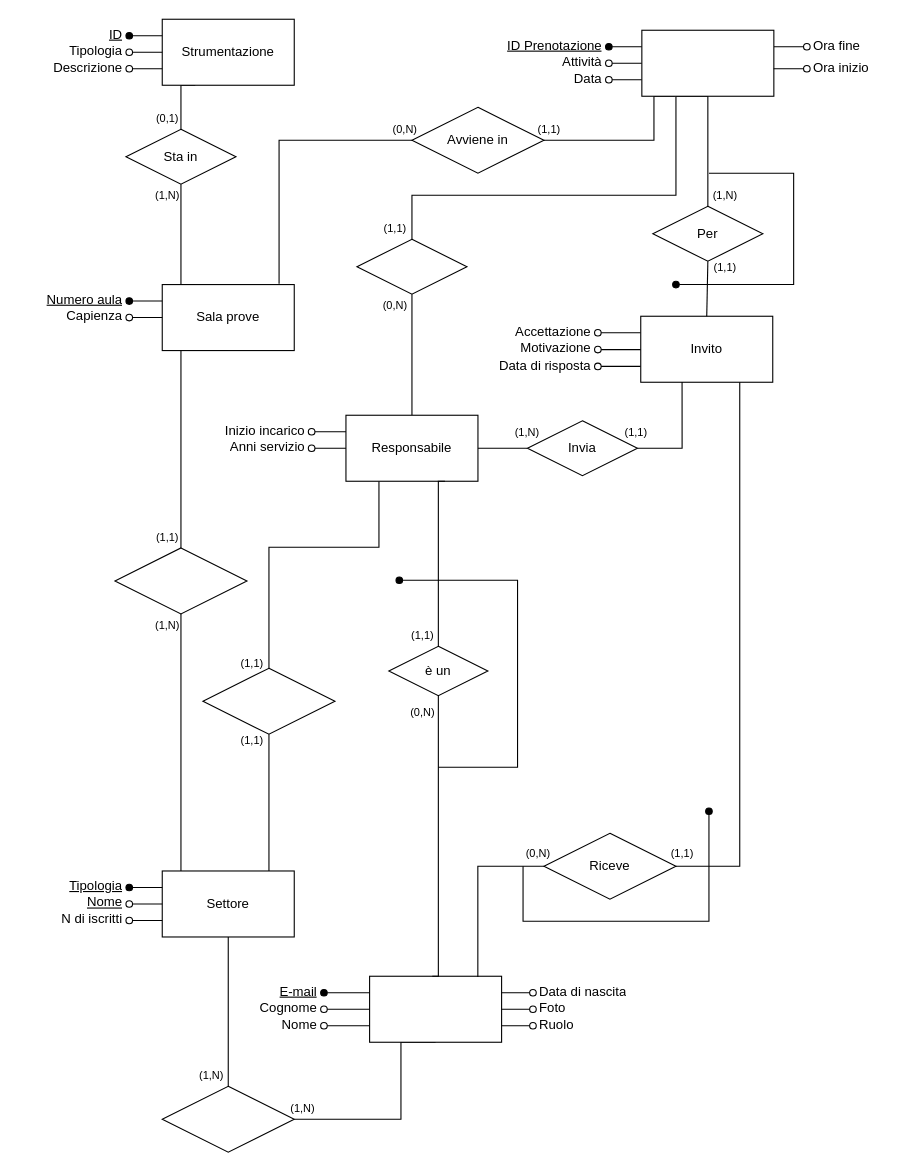
This 902x1172 diagram has some shape labels left out. The centre of each missing label's shape, as x and y in pixels:
"Crea" goes at (411,266).
"Fa riferimento" goes at (180,580).
"Gestisce" goes at (268,700).
"Iscritto" goes at (435,1008).
"Iscritto a" goes at (227,1118).
"Prenotazione" goes at (707,62).
